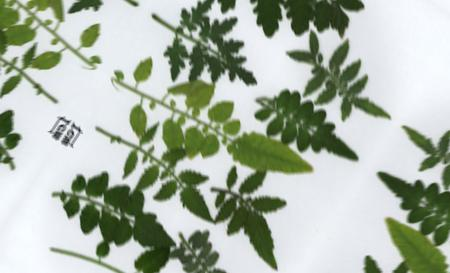Tomato leaf: (223, 119, 319, 204), (195, 87, 247, 140), (121, 45, 167, 94), (162, 67, 208, 115), (180, 78, 222, 122), (119, 99, 161, 142), (152, 118, 194, 159), (178, 126, 215, 165), (193, 129, 229, 168)
